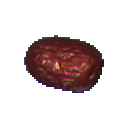gd: (11, 15, 110, 110)
